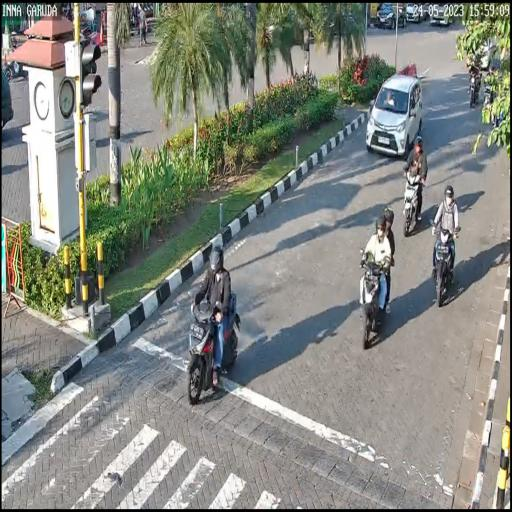mobil: (368, 74, 424, 154)
motor: (185, 291, 245, 405), (358, 249, 390, 351), (429, 219, 460, 310), (401, 166, 426, 236)
